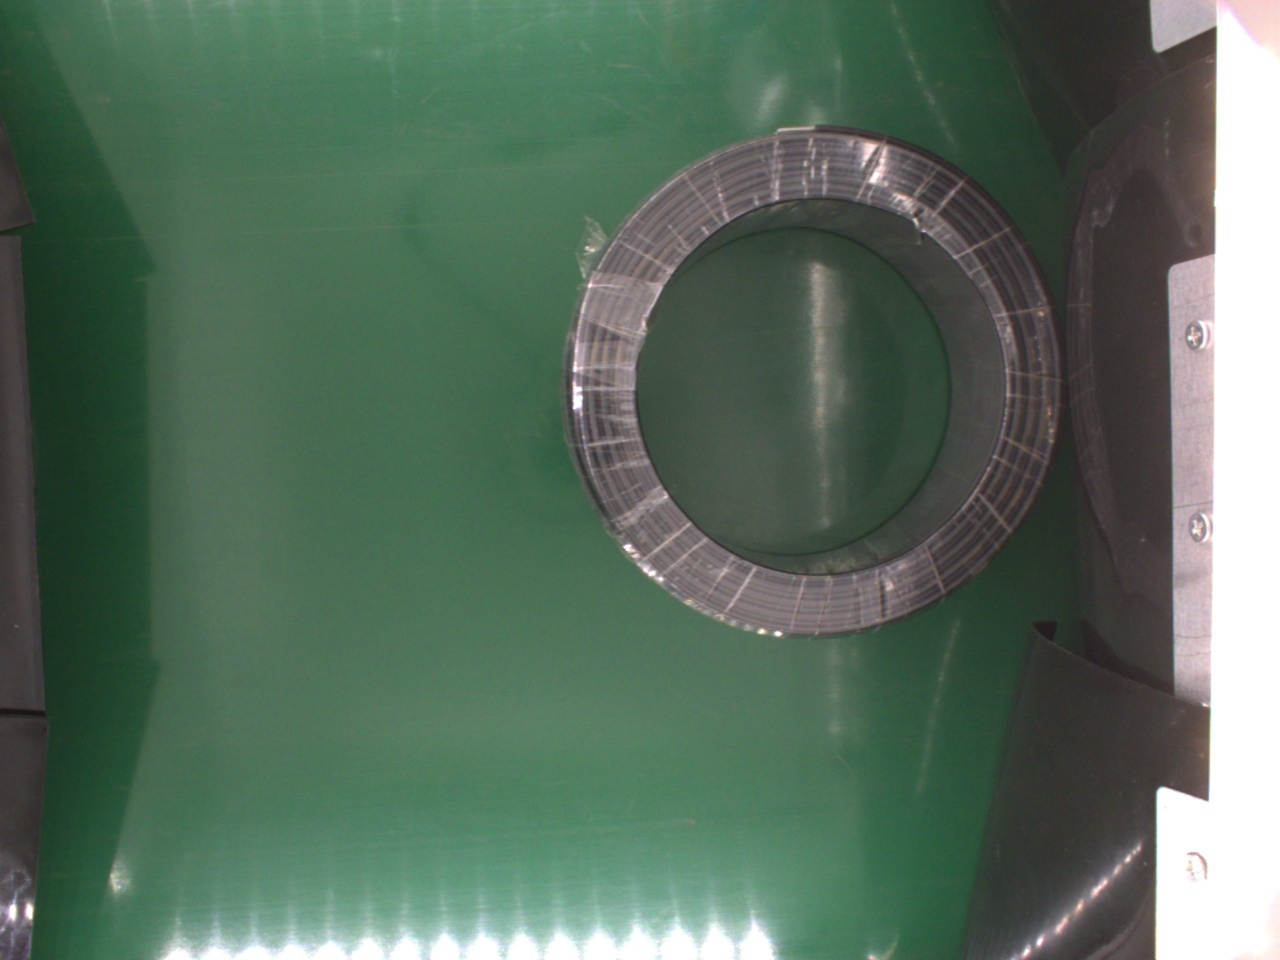black: (564, 123, 1064, 642)
